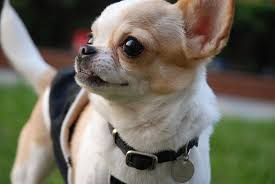Chihuahua: (3, 1, 240, 184)
